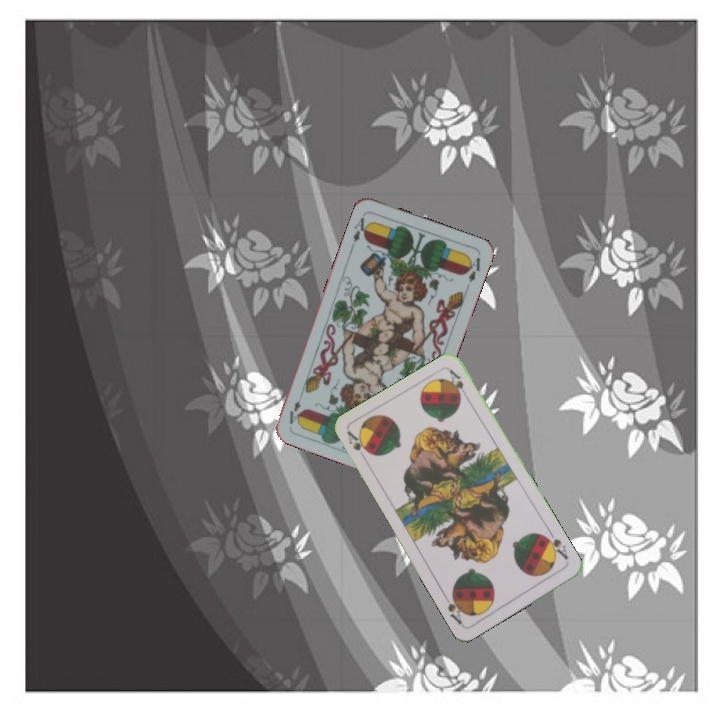EA: (348, 213, 372, 250)
SA: (539, 527, 571, 562), (343, 427, 373, 458)
